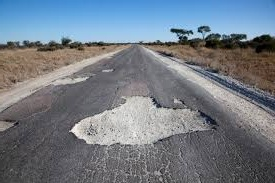pothole: (60, 86, 222, 153), (0, 112, 18, 139), (52, 72, 89, 85), (98, 66, 115, 73)
